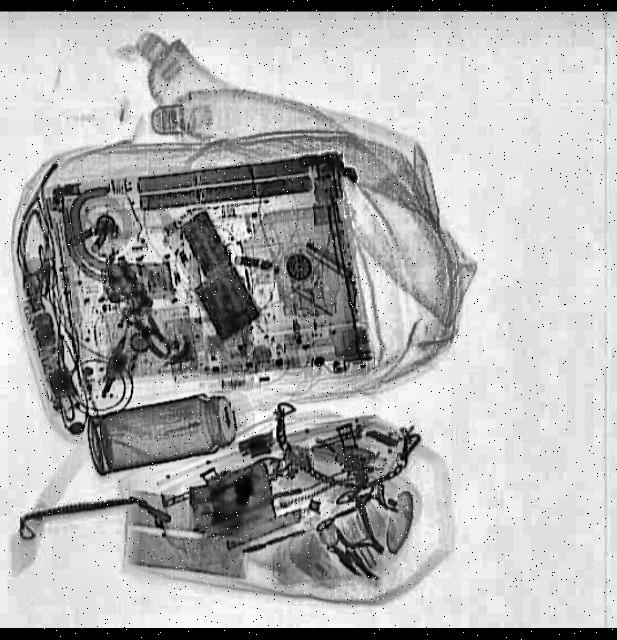Pliers: (330, 494, 400, 568)
